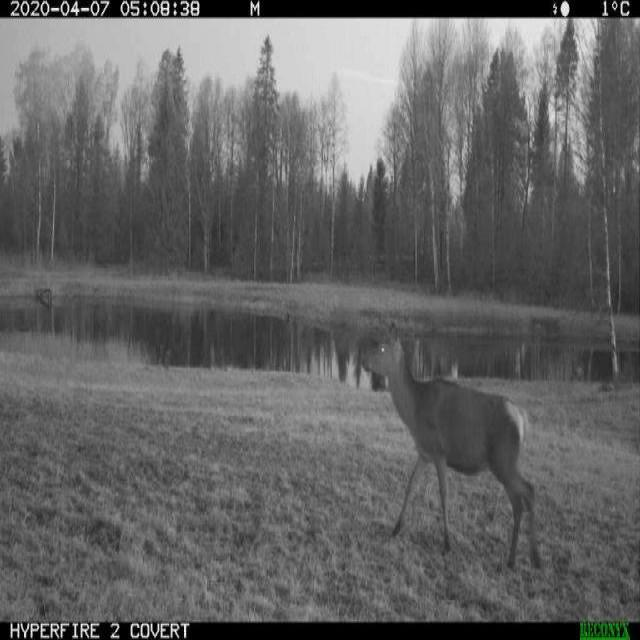deer: (353, 320, 552, 576)
